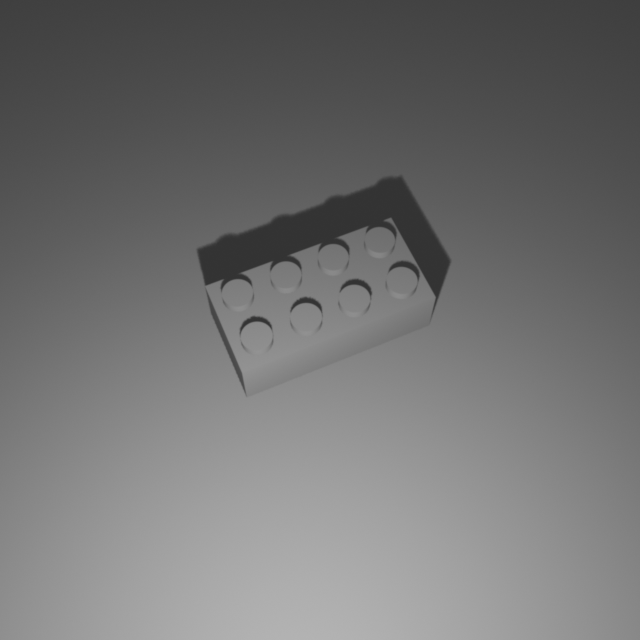lego_2x4: (204, 212, 437, 397)
